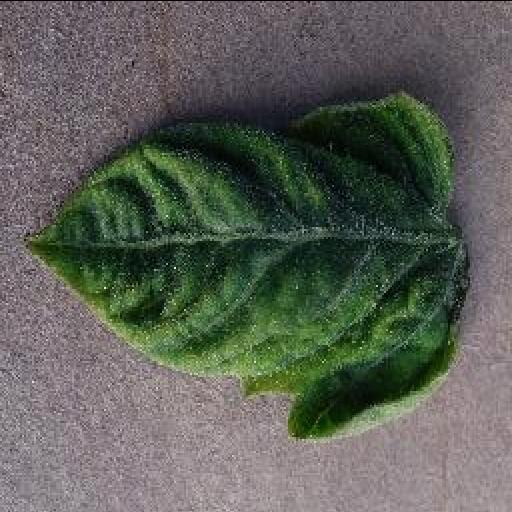disease_tomato: (22, 88, 472, 438)
